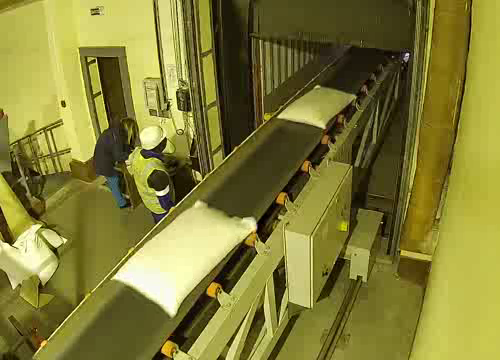bag: (106, 190, 261, 324), (266, 81, 365, 138)
